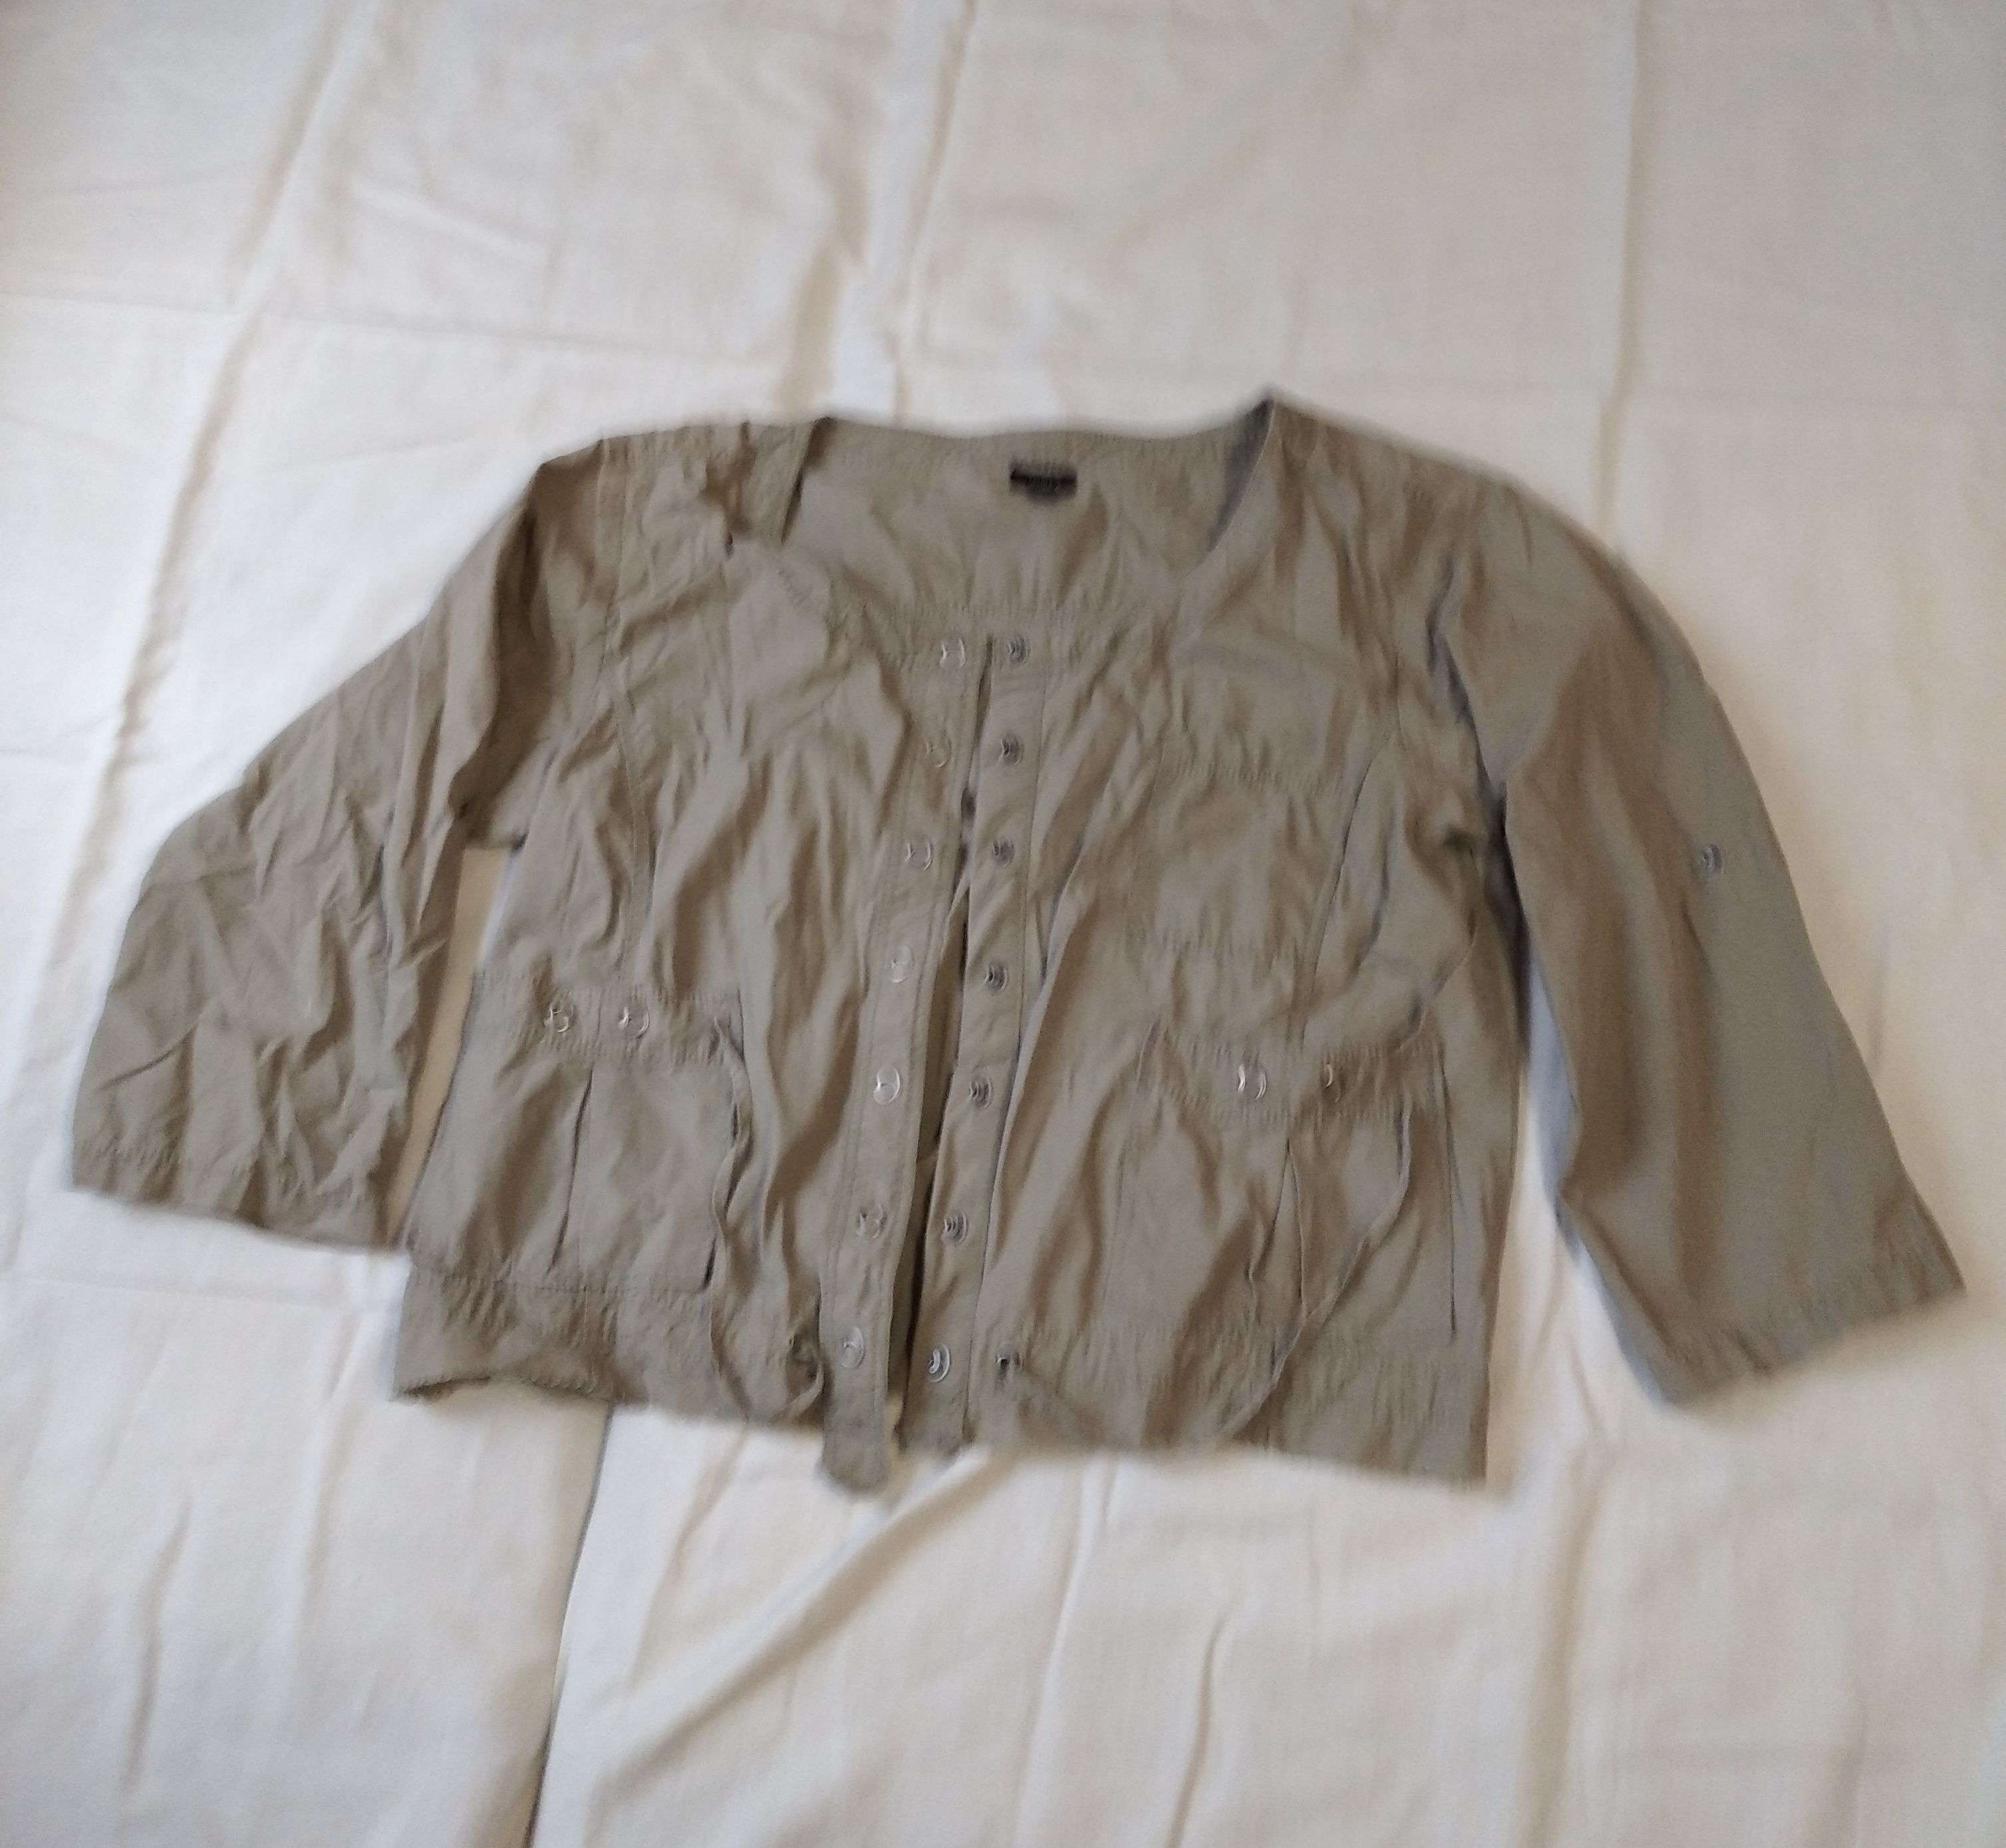clothes: (16, 377, 1954, 1472)
